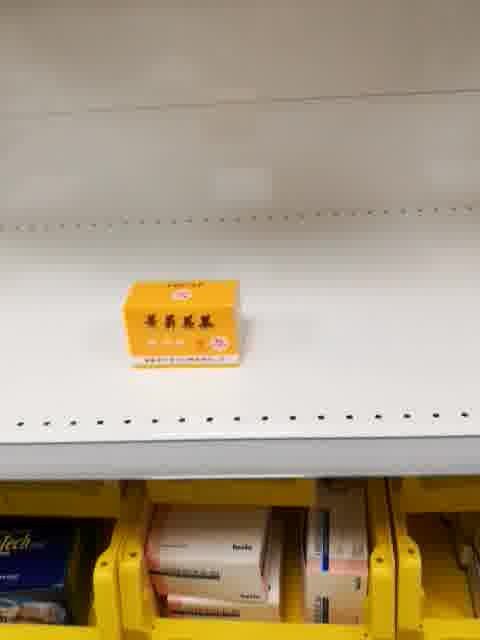jasminetea: (120, 275, 249, 370)
